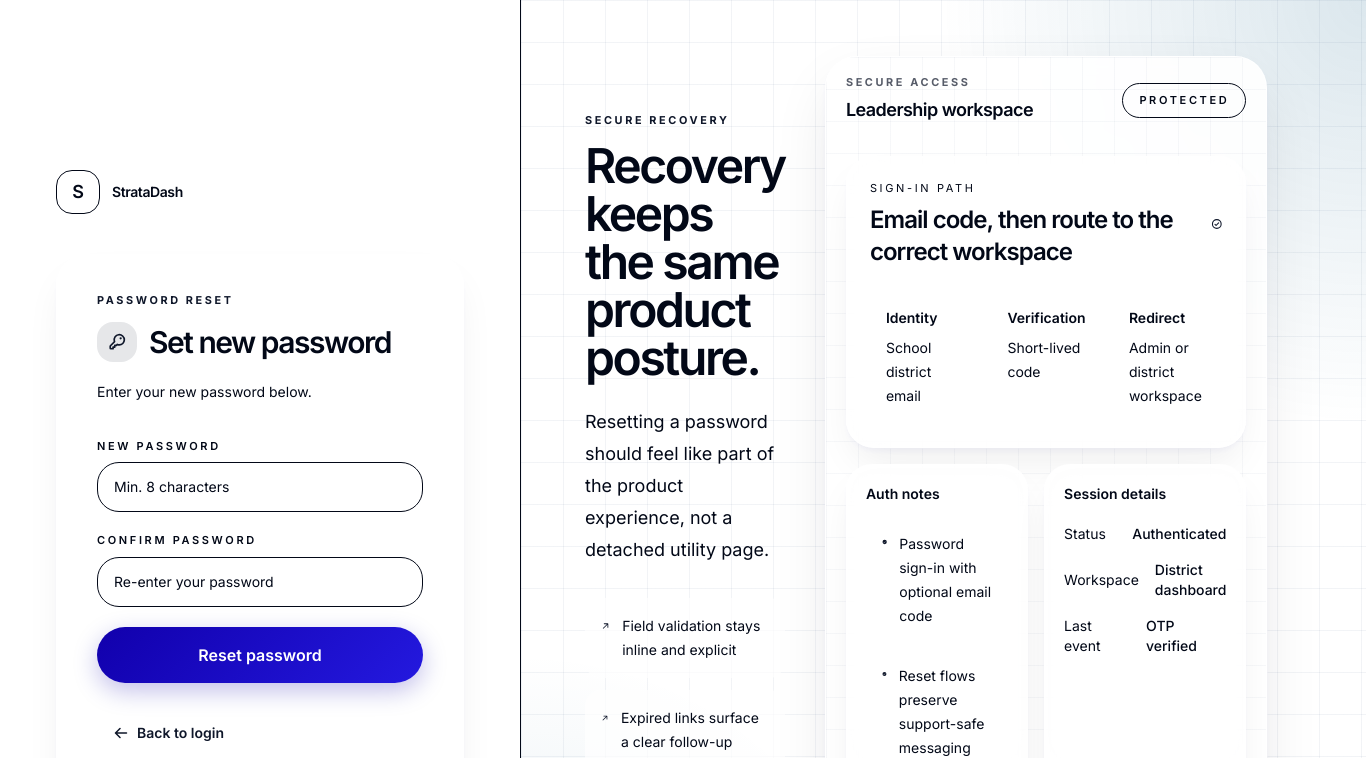
Test: ResetPassword › with token › shows success message after successful reset
The width and height of the screenshot is (1366, 758).
In the password field labelled "New password": (260,487) left=97, top=462, right=423, bottom=512, type "newpassword123"
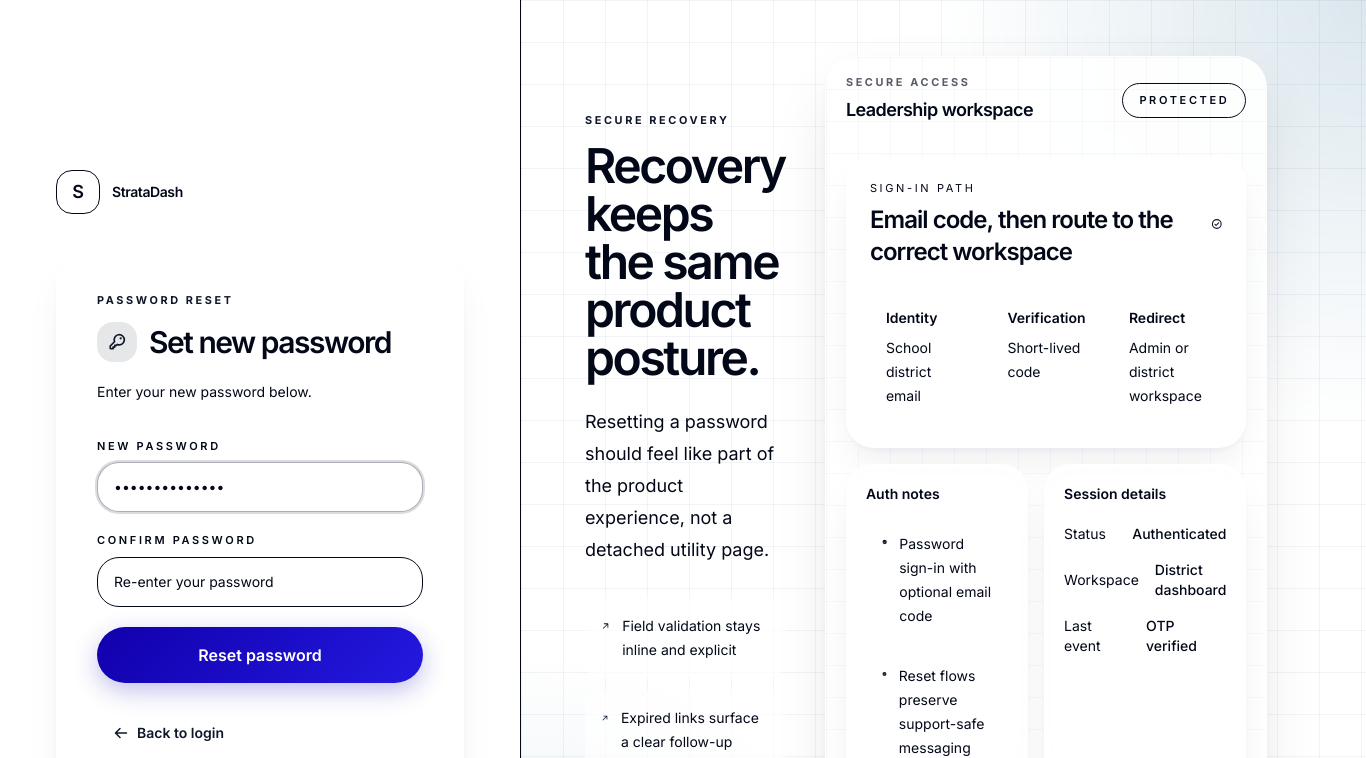
In the password field labelled "Confirm password": (260,582) left=97, top=557, right=423, bottom=607, type "newpassword123"
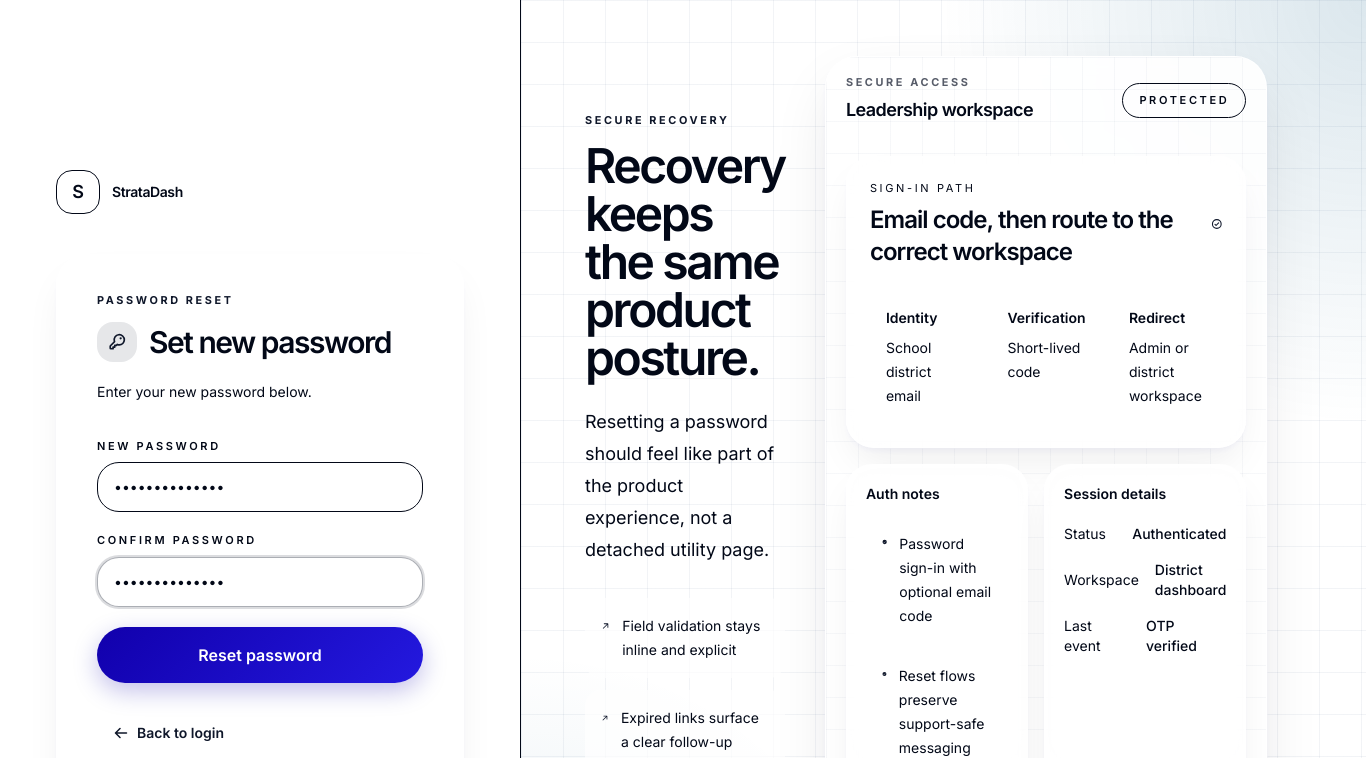
Click the button "Reset password": (260,655) left=97, top=627, right=423, bottom=683
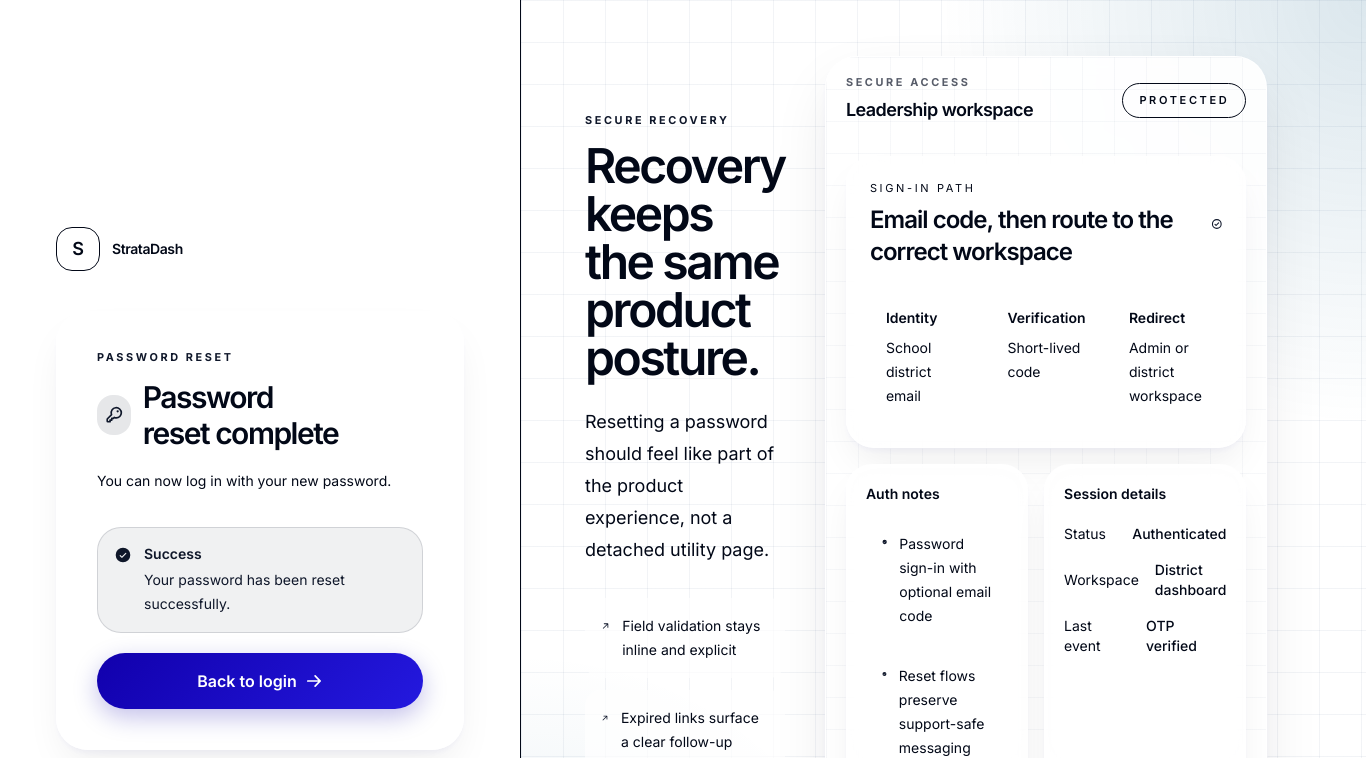
Now the text "Your password has been reset successfully." is shown, box left=144, top=571, right=345, bottom=612
